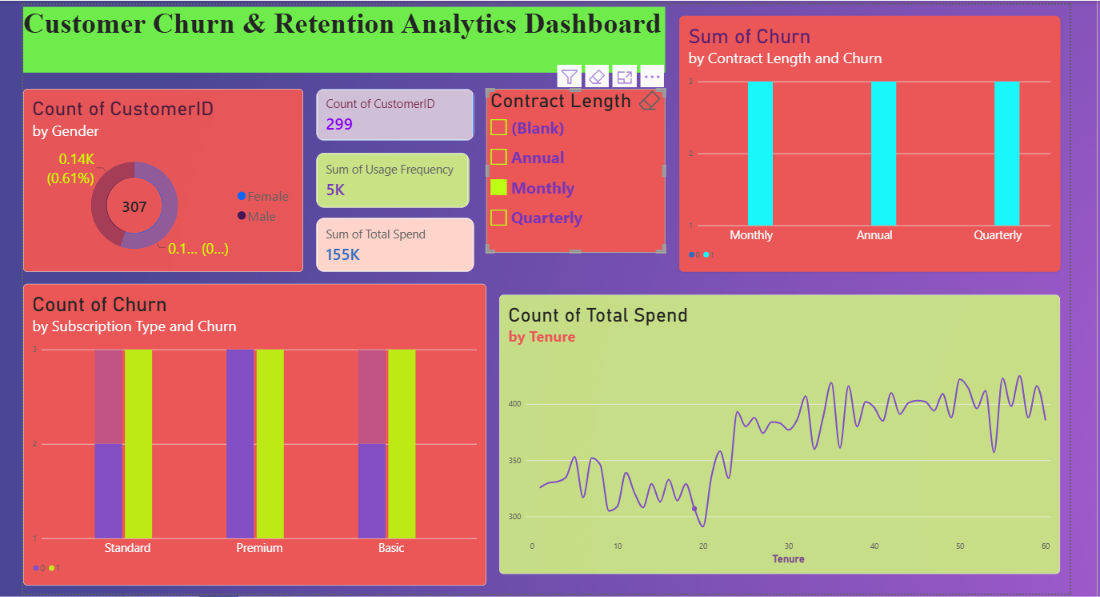

What the dashboard file says about the page in this screenshot:
{"tool":"powerbi","page":{"name":"Page 1","canvas":[1920,1080],"ordinal":0},"visuals":[{"type":"clusteredColumnChart","fields":{"Category":["customer_churn_dataset-training.Contract Length"],"Series":["customer_churn_dataset-training.Churn"],"Y":["Sum(customer_churn_dataset-training.Churn)"]},"box":[1203.3,20.2,698.8,469.6],"z":0},{"type":"clusteredColumnChart","fields":{"Category":["customer_churn_dataset-training.Subscription Type"],"Series":["customer_churn_dataset-training.Churn"],"Y":["CountNonNull(customer_churn_dataset-training.Churn)"]},"box":[0,511.8,849.3,553.9],"z":1000},{"type":"cardVisual","fields":{"Data":["CountNonNull(customer_churn_dataset-training.CustomerID)"]},"box":[537.4,154.1,289.8,95.4],"z":2000},{"type":"slicer","fields":{"Values":["customer_churn_dataset-testing-.Contract Length"]},"box":[849.3,154.1,328.3,335.7],"z":3000},{"type":"donutChart","fields":{"Category":["customer_churn_dataset-testing-.Gender"],"Y":["CountNonNull(customer_churn_dataset-testing-.CustomerID)"]},"box":[0,154.1,513.6,335.7],"z":4000},{"type":"cardVisual","fields":{"Data":["Sum(customer_churn_dataset-training.Total Spend)"]},"box":[537.4,390.7,289.8,99],"z":5000},{"type":"cardVisual","fields":{"Data":["Sum(customer_churn_dataset-training.Usage Frequency)"]},"box":[537.4,271.5,280.6,100.9],"z":6000},{"type":"lineChart","fields":{"Category":["customer_churn_dataset-testing-.Tenure"],"Y":["CountNonNull(customer_churn_dataset-testing-.Total Spend)"]},"box":[873.1,531.9,1029,511.8],"z":7000},{"type":"textbox","box":[0,3.7,1177.6,121.1],"z":8000}]}

Visuals, with their boxes in screenshot pixels (x1, y1, x2, y2):
clusteredColumnChart - customer_churn_dataset-training.Contract Length x customer_churn_dataset-training.Churn: x1=675, y1=11, x2=1055, y2=266
clusteredColumnChart - customer_churn_dataset-training.Subscription Type x customer_churn_dataset-training.Churn: x1=20, y1=278, x2=482, y2=580
cardVisual - CountNonNull(customer_churn_dataset-training.CustomerID): x1=312, y1=84, x2=470, y2=136
slicer - customer_churn_dataset-testing-.Contract Length: x1=482, y1=84, x2=661, y2=266
donutChart - customer_churn_dataset-testing-.Gender x CountNonNull(customer_churn_dataset-testing-.CustomerID): x1=20, y1=84, x2=299, y2=266
cardVisual - Sum(customer_churn_dataset-training.Total Spend): x1=312, y1=213, x2=470, y2=266
cardVisual - Sum(customer_churn_dataset-training.Usage Frequency): x1=312, y1=148, x2=465, y2=203
lineChart - customer_churn_dataset-testing-.Tenure x CountNonNull(customer_churn_dataset-testing-.Total Spend): x1=495, y1=289, x2=1055, y2=568
textbox: x1=20, y1=2, x2=661, y2=68
